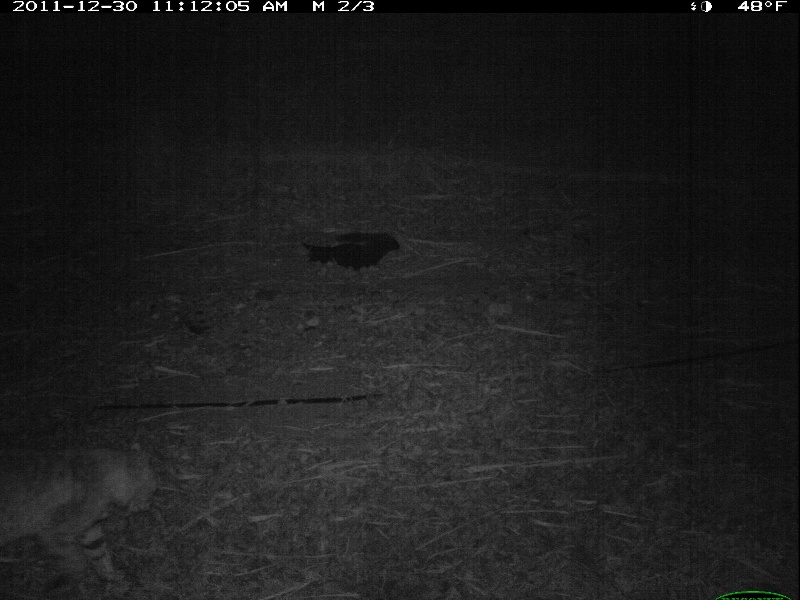cat: (1, 441, 162, 594)
